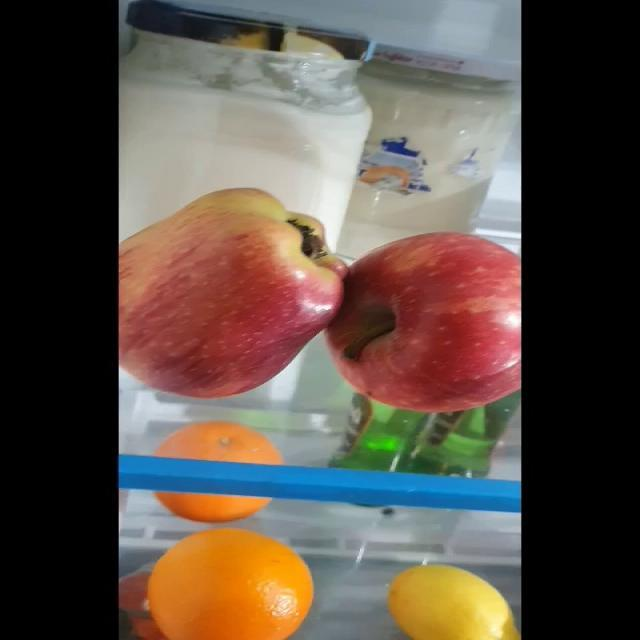apple: (124, 184, 347, 397), (328, 231, 521, 416)
lemon: (393, 567, 520, 640)
orange: (149, 530, 313, 634), (158, 422, 274, 518)
